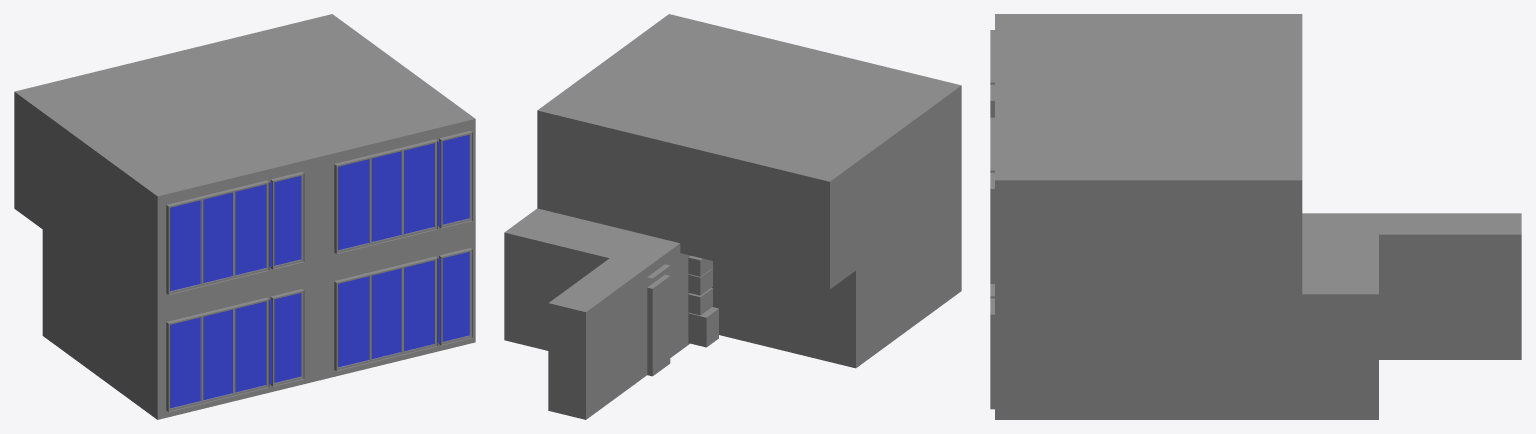
The model's file is House.FBX.
The picture shows the model from 3 angles, left to right: view 1: azimuth 30°, elevation 25°; view 2: azimuth 150°, elevation 25°; view 3: azimuth 270°, elevation 25°; orthographic projection. The views are drawn at different scales.
Parts seen in each view (by area): view 1: House_Wall, House_Ceiling, House_Windows_Glass, House_Windows_Frame, House_Windows_Black; view 2: House_Wall, House_Ceiling; view 3: House_Wall, House_Ceiling.
Boxes of the visible parts, box(x1,y1,x2,y2) form: House_Wall: box(14, 92, 475, 419); House_Ceiling: box(14, 14, 475, 196); House_Windows_Glass: box(170, 135, 469, 408); House_Windows_Frame: box(168, 132, 471, 411); House_Windows_Black: box(170, 135, 469, 408); House_Wall: box(504, 85, 961, 419); House_Ceiling: box(537, 14, 961, 278); House_Wall: box(990, 30, 1521, 419); House_Ceiling: box(995, 14, 1302, 180).
Bounding box in the file's own units: 782 × 525 × 1056.
